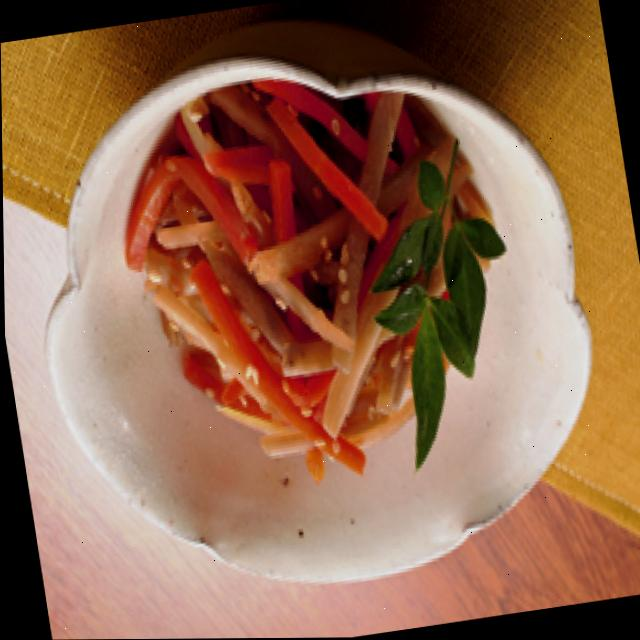蔬菜料理: (113, 62, 555, 525)
